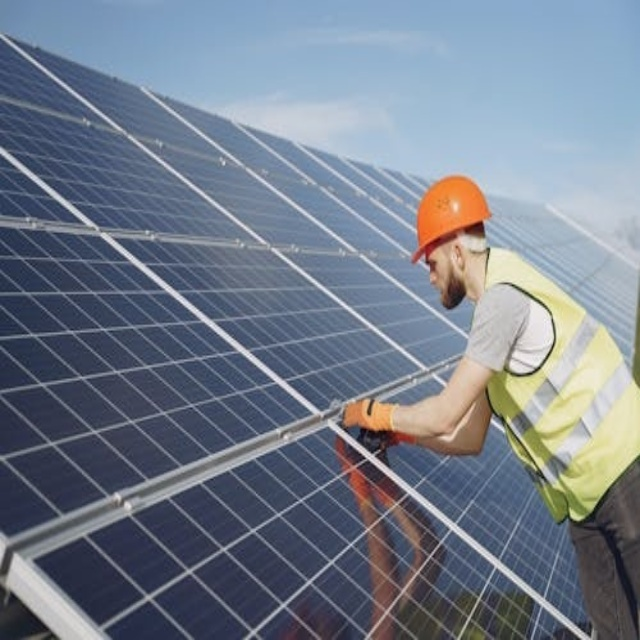Guantes: (339, 392, 399, 436)
Sin_gafas: (425, 252, 451, 275)
Sin_mascara: (429, 277, 453, 306)
